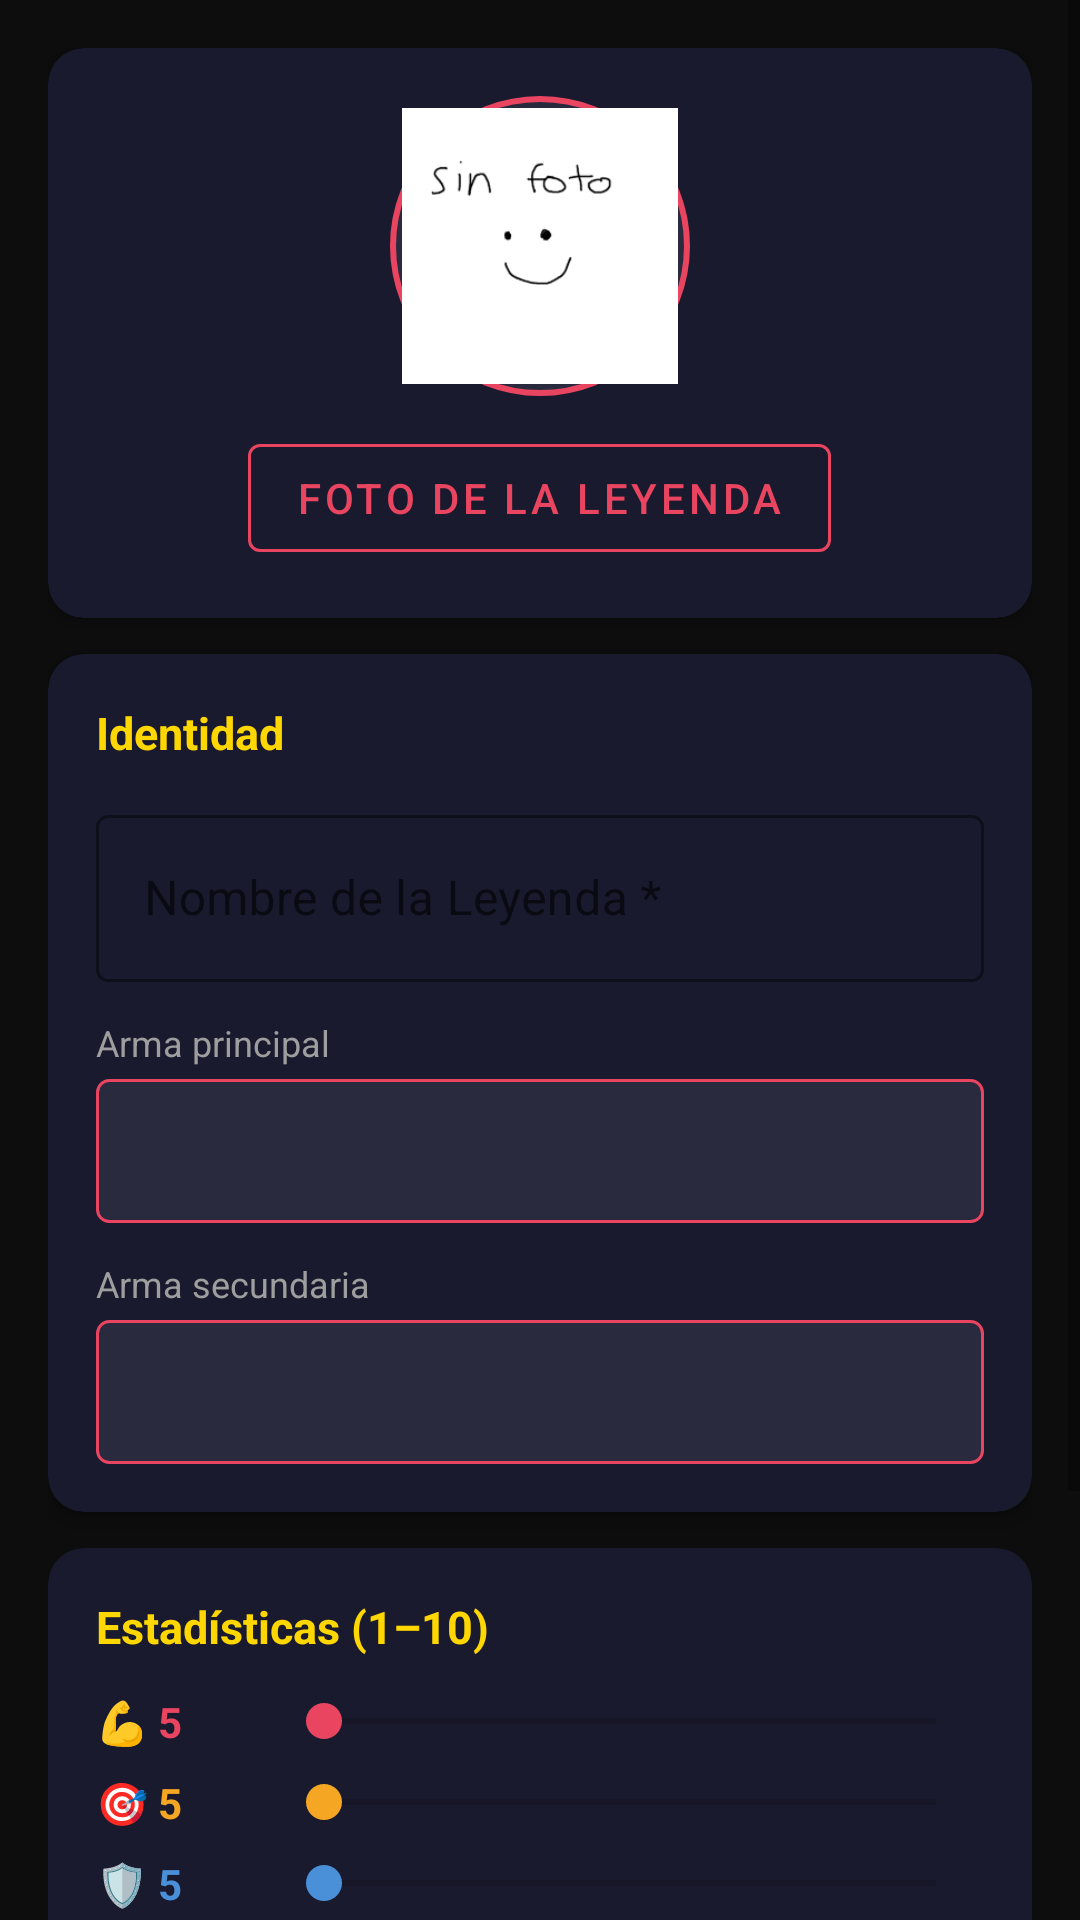

Where icons sit on this 1080px x 1920px app screen, as BBox(x1, y1, x2, y2):
Vista previa: BBox(390, 96, 690, 396)
